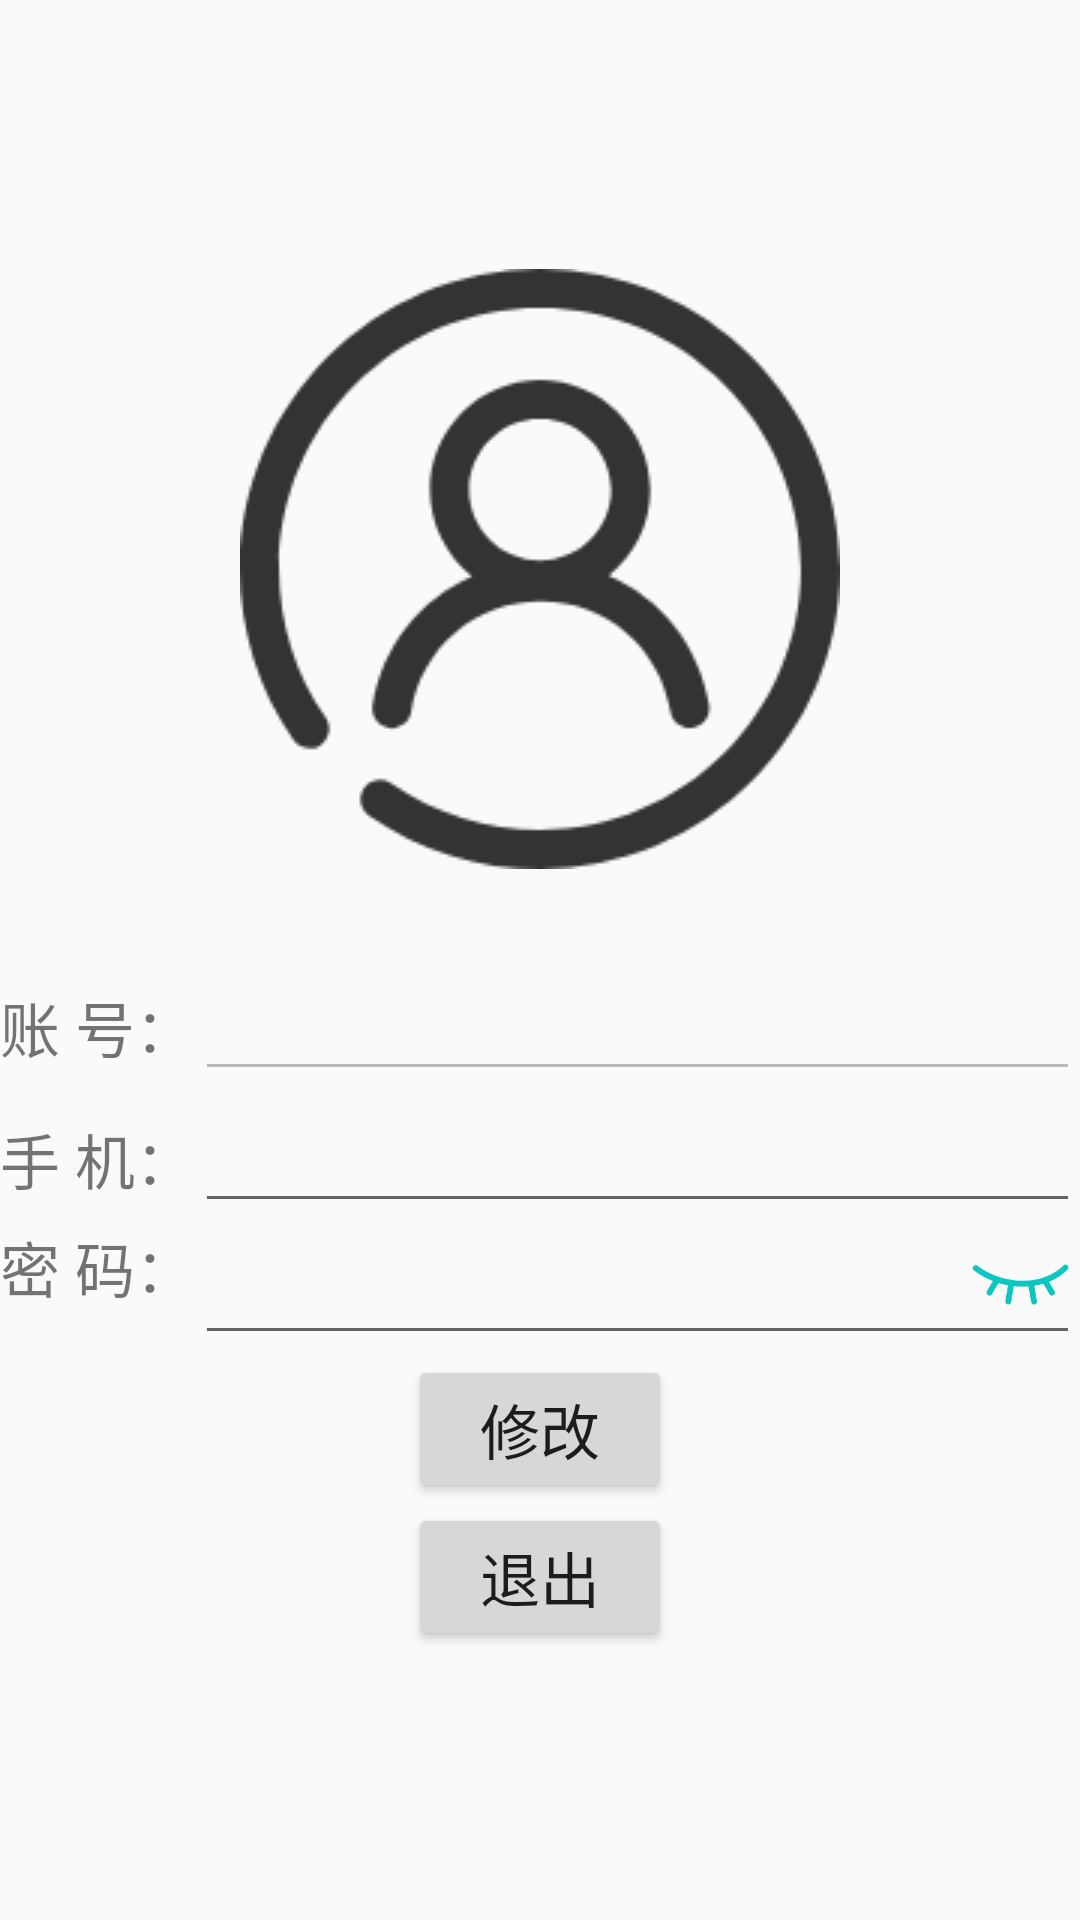

Screen size 1080*1920. Icon name, then its box in pixels as (x1, y1, x2, y2):
covered: (972, 1264, 1069, 1305)
